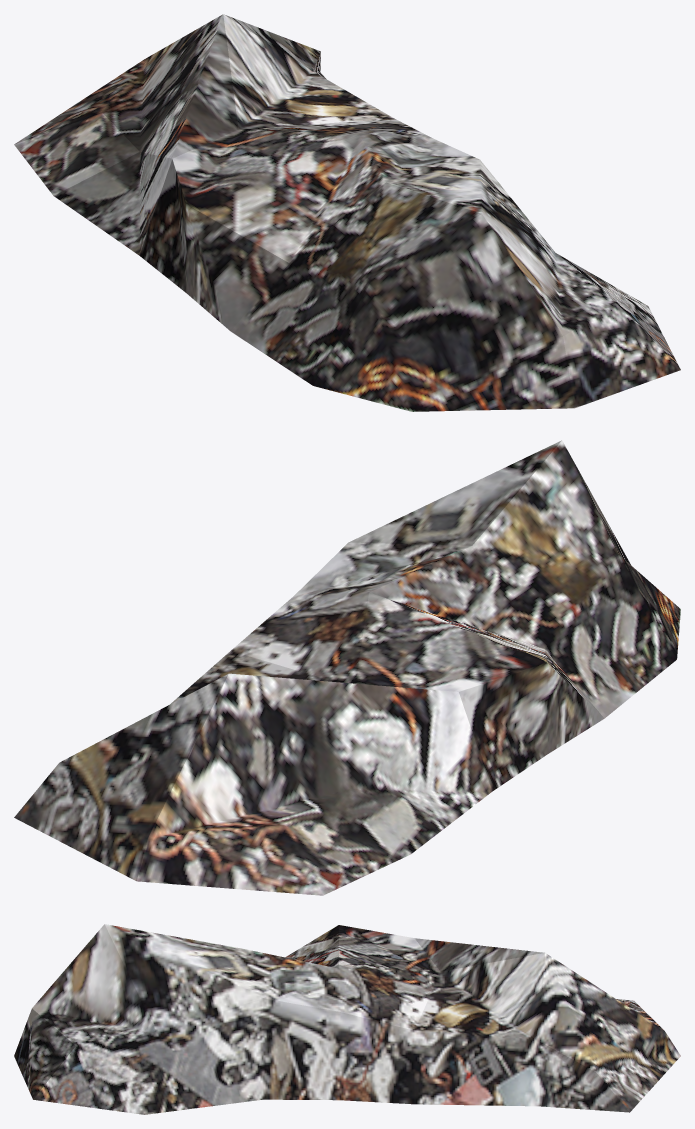
File: Garbage2.fbx
3 views of the same model, one above another, from view 1: azimuth 30°, elevation 25°; view 2: azimuth 150°, elevation 25°; view 3: azimuth 270°, elevation 25° (orthographic). The views are drawn at different scales.
Parts seen in each view (by area): view 1: Cube; view 2: Cube; view 3: Cube.
Part boxes in pixels (bbox=[...]): Cube: bbox=[14, 14, 680, 411]; Cube: bbox=[14, 440, 680, 895]; Cube: bbox=[14, 924, 680, 1114].
Bounding box in the file's own units: 196 × 87.39 × 441.
Materials: 1 (1 with a texture image).
